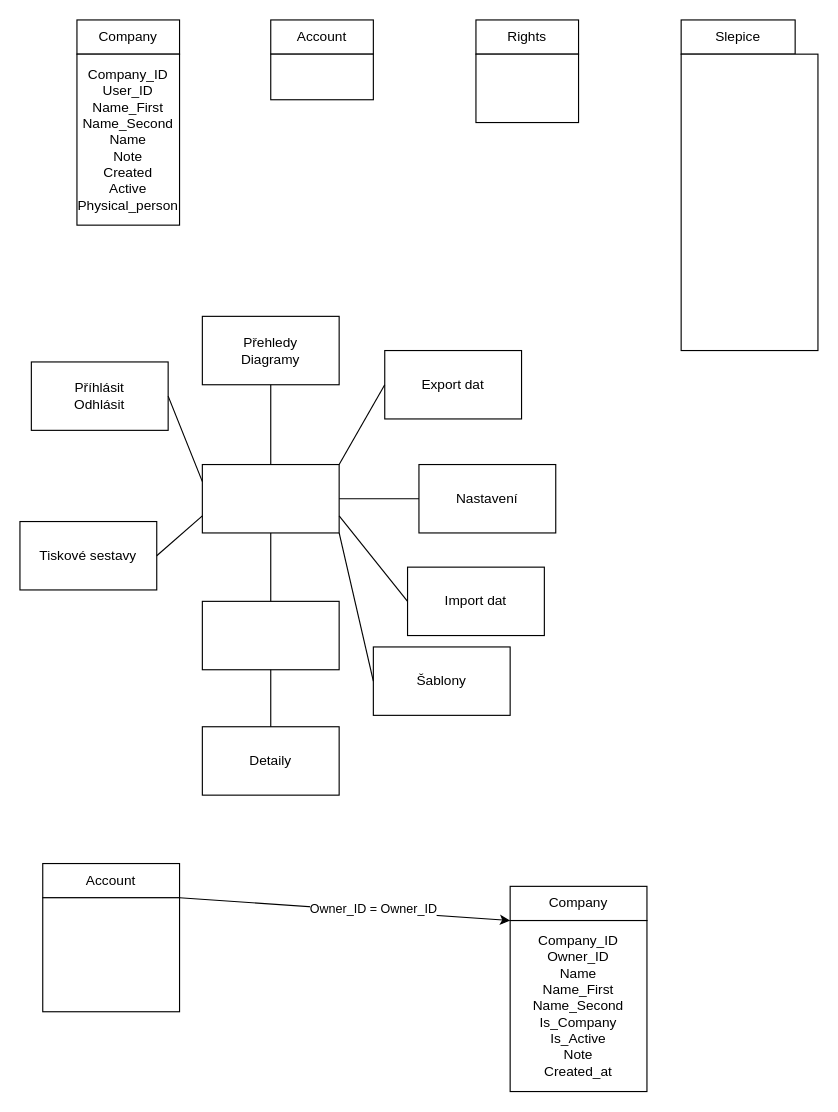
Image size: 838x1112. Some labels were removed from this diagram. The box of each missing label's shape, as (x1, y1, x2, y2) in pixels:
account_id auth_id owner_id email is_active created_at: (42, 897, 180, 1012)
Desktop: (201, 463, 339, 533)
Google_ID Gmail Acceess: (475, 53, 579, 123)
Google_ID User_ID: (270, 53, 373, 100)
Seznamy: (201, 600, 339, 670)
Sledice_ID Narozeni Umrti Name Give_Name Give_Date Rod Třída Egg_color: (680, 53, 818, 351)
